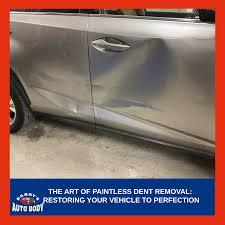dent: (89, 32, 178, 115)
